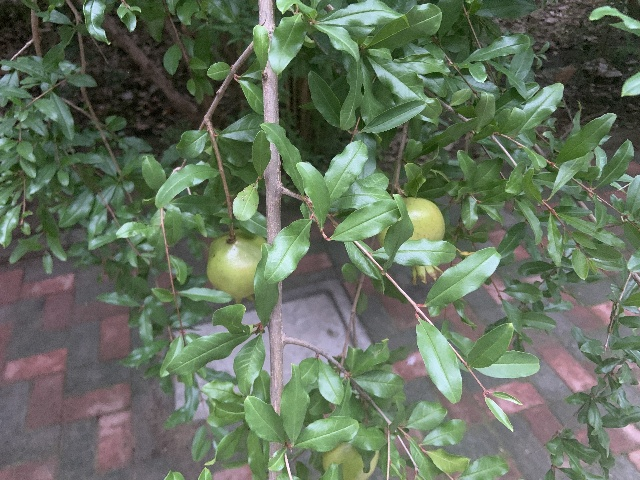mid-growth: (377, 197, 444, 286), (206, 229, 267, 304)
